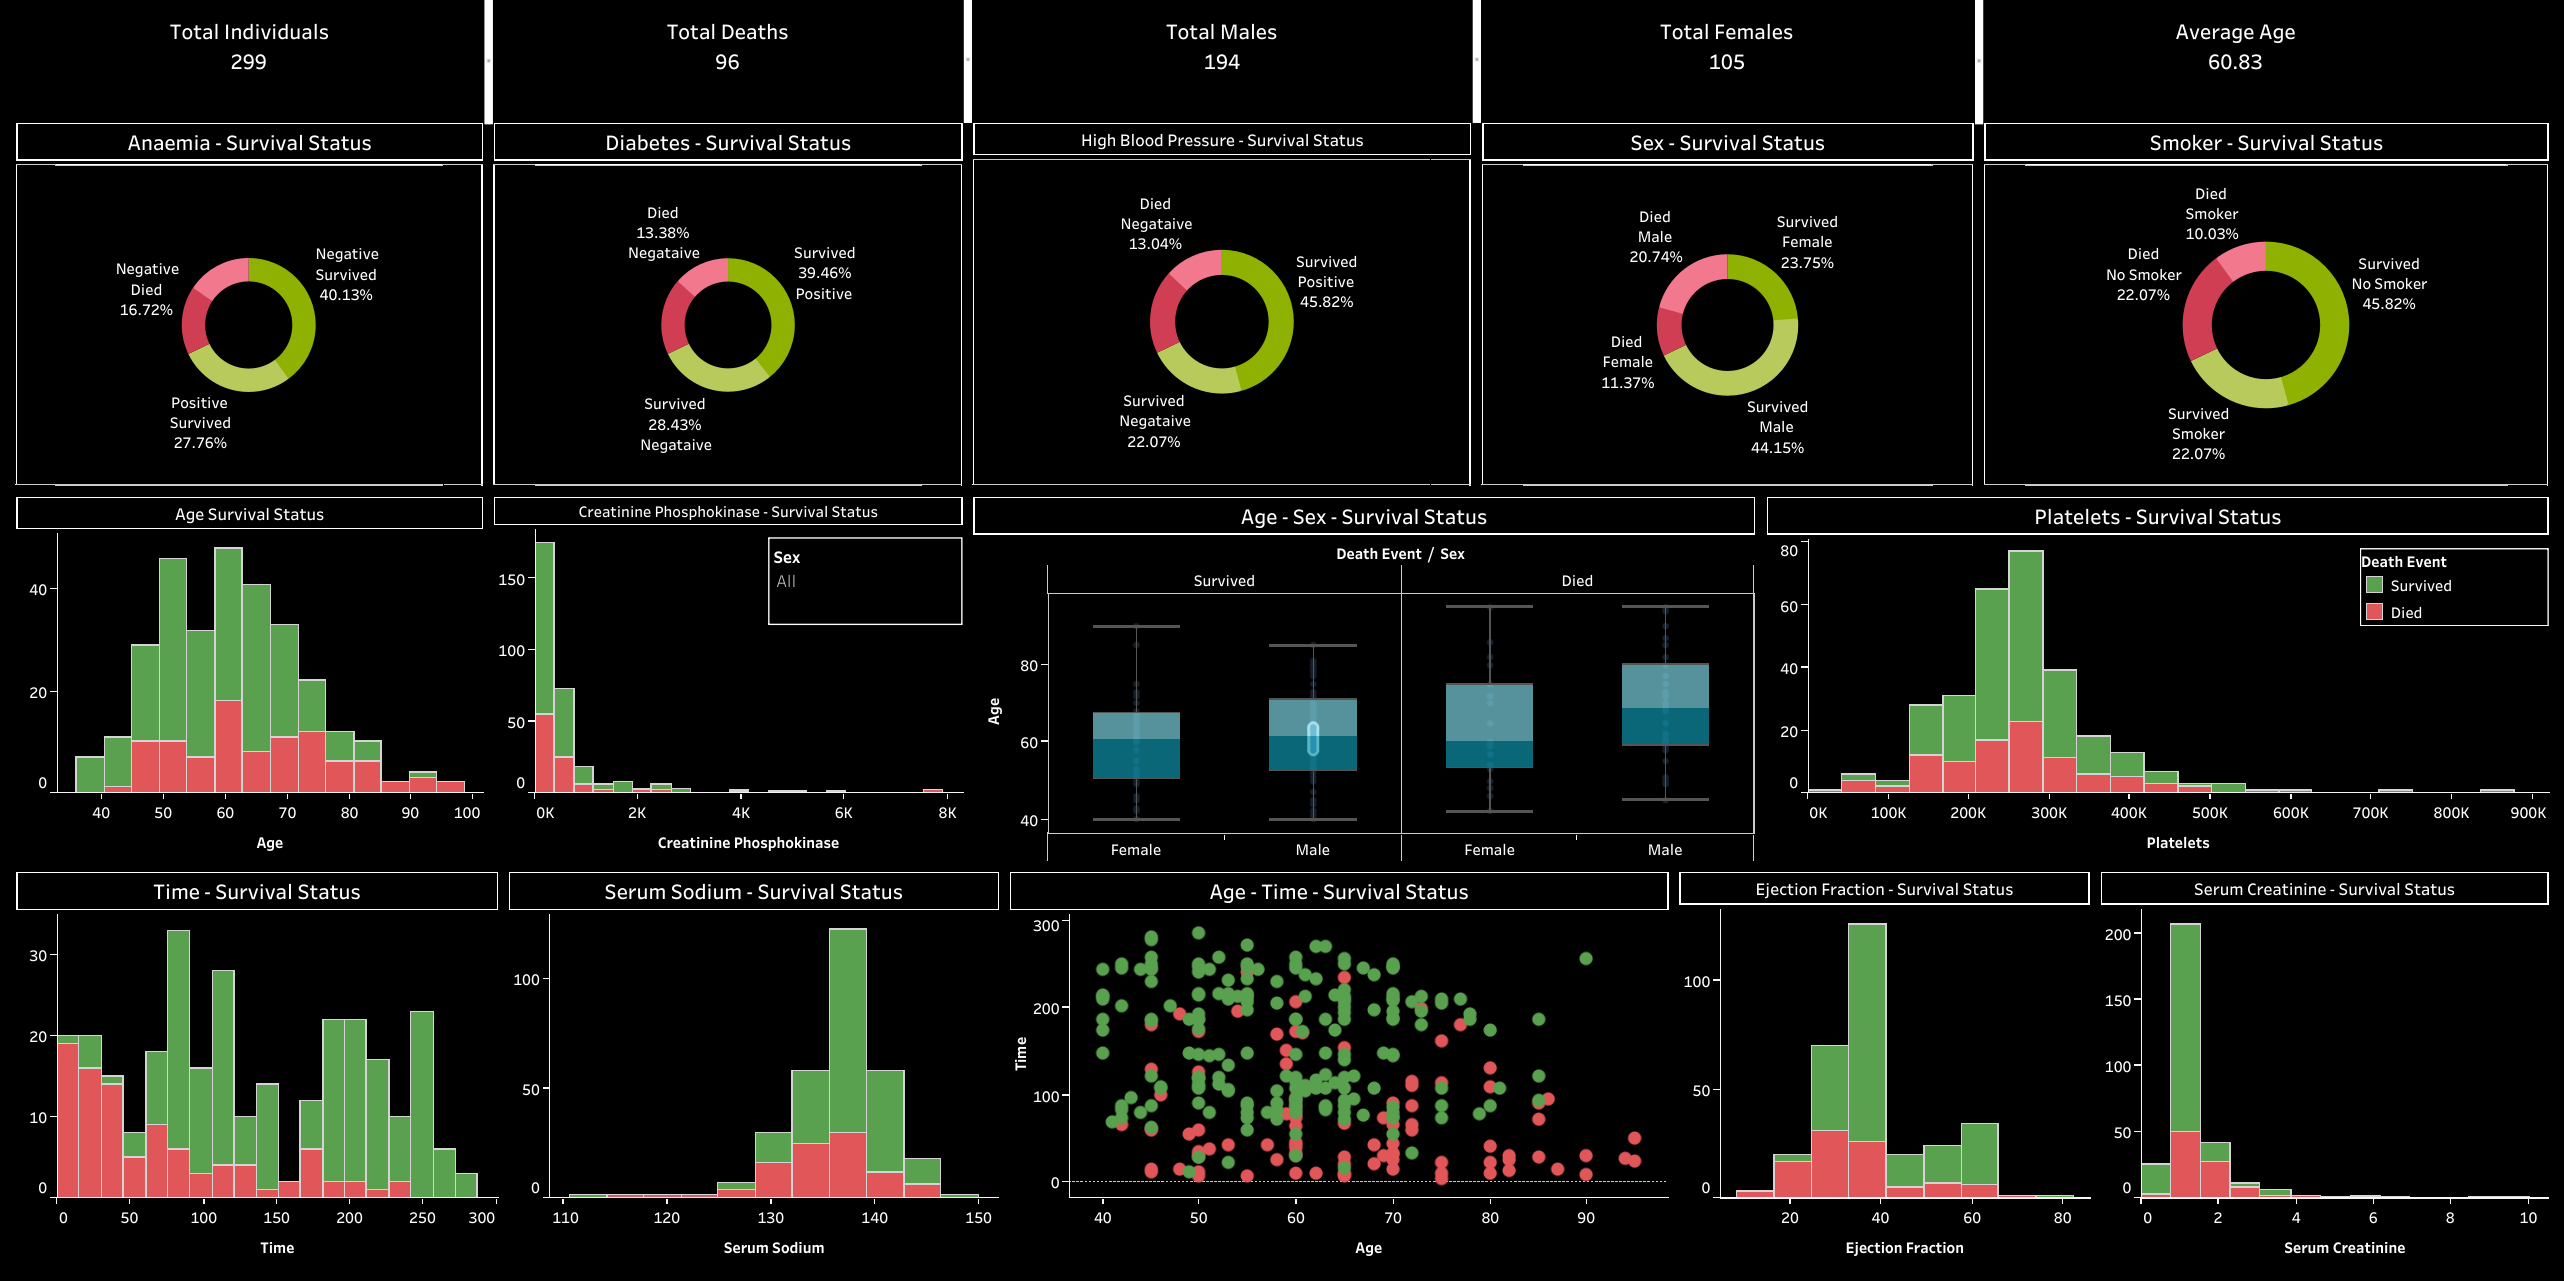

Layout of this report page (visuals, bound fields, positions):
{"tool":"tableau","page":{"name":"Heart Failure dashboard","canvas":[1000,1000],"units":"permille","ordinal":0},"visuals":[{"type":"worksheet","title":"Total Individuals","mark":"Automatic","box":[4.2,8.4,186.3,82.8]},{"type":"worksheet","title":"Total Deaths","mark":"Automatic","box":[190.5,8.4,186.8,82.8]},{"type":"worksheet","title":"Total Males","mark":"Automatic","box":[377.3,8.4,198.4,82.8]},{"type":"worksheet","title":"Total Females","mark":"Automatic","box":[575.8,8.4,195.8,82.8]},{"type":"worksheet","title":"Average Age","mark":"Automatic","box":[771.6,8.4,224.2,82.8]},{"type":"blank","box":[26.3,52.6,21.1,69.5]},{"type":"worksheet","title":"anaemia","mark":"Pie","rows":["Calculation_1214283075561394177","Calculation_1214283075561394177"],"box":[4.2,91.2,186.3,292.2]},{"type":"worksheet","title":"diabetes","mark":"Pie","rows":["Calculation_1214283075561394177","Calculation_1214283075561394177"],"box":[190.5,91.2,186.9,292.2]},{"type":"worksheet","title":"high blood pressure","mark":"Pie","rows":["Calculation_1214283075561394177","Calculation_1214283075561394177"],"box":[377.5,91.2,198.4,292.2]},{"type":"worksheet","title":"sex","mark":"Pie","rows":["Calculation_1214283075561394177","Calculation_1214283075561394177"],"box":[575.9,91.2,195.6,292.2]},{"type":"worksheet","title":"smoker","mark":"Pie","rows":["Calculation_1214283075561394177","Calculation_1214283075561394177"],"box":[771.5,91.2,224.3,292.2]},{"type":"worksheet","title":"age","mark":"Automatic","rows":["age"],"cols":["Age (bin)"],"box":[4.2,383.5,186.3,292.3]},{"type":"worksheet","title":"creatinine phosphokinase","mark":"Automatic","rows":["creatinine_phosphokinase"],"cols":["Creatinine Phosphokinase (bin)"],"box":[190.5,383.5,186.8,292.3]},{"type":"worksheet","title":"age-sex","mark":"Circle","rows":["age"],"cols":["DEATH_EVENT","sex"],"box":[377.4,383.5,309.2,292.3]},{"type":"worksheet","title":"platelets","mark":"Automatic","rows":["platelets"],"cols":["Platelets (bin)"],"box":[686.6,383.5,309.2,292.3]},{"type":"filter","title":"age-sex","param":"[federated.1ympp141984tiv18zq2gd1dwqg41].[none:sex:ok]","box":[299.5,418.9,75.8,68.4]},{"type":"legend","title":"platelets","param":"[federated.1ympp141984tiv18zq2gd1dwqg41].[none:DEATH_EVENT:ok]","box":[920,427.4,73.7,80]},{"type":"worksheet","title":"time","mark":"Automatic","rows":["time"],"cols":["Time (bin)"],"box":[4.2,675.7,192.1,315.8]},{"type":"worksheet","title":"serum sodium","mark":"Automatic","rows":["serum_sodium"],"cols":["Serum Sodium (bin)"],"box":[196.3,675.7,195.3,315.8]},{"type":"worksheet","title":"age-time","mark":"Automatic","rows":["time"],"cols":["age"],"box":[391.6,675.7,261.1,315.8]},{"type":"worksheet","title":"ejection fraction","mark":"Automatic","rows":["ejection_fraction"],"cols":["Ejection Fraction (bin)"],"box":[652.6,675.7,164.2,315.8]},{"type":"worksheet","title":"serum creatinine","mark":"Automatic","rows":["serum_creatinine"],"cols":["Serum Creatinine (bin)"],"box":[816.8,675.7,179,315.8]}]}

Visuals, with their boxes on the dashboard's canvas, which has no fixed pixel size, in thousandths of its width and height (x1, y1, x2, y2). These are canvas units, not pixel positions in the 2564x1281 screenshot, which may show the page scaled, cropped or inside an application window:
"Total Individuals" worksheet: (4, 8, 190, 91)
"Total Deaths" worksheet: (190, 8, 377, 91)
"Total Males" worksheet: (377, 8, 576, 91)
"Total Females" worksheet: (576, 8, 772, 91)
"Average Age" worksheet: (772, 8, 996, 91)
blank: (26, 53, 47, 122)
"anaemia" worksheet (Pie marks): (4, 91, 190, 383)
"diabetes" worksheet (Pie marks): (190, 91, 377, 383)
"high blood pressure" worksheet (Pie marks): (378, 91, 576, 383)
"sex" worksheet (Pie marks): (576, 91, 772, 383)
"smoker" worksheet (Pie marks): (772, 91, 996, 383)
"age" worksheet: (4, 384, 190, 676)
"creatinine phosphokinase" worksheet: (190, 384, 377, 676)
"age-sex" worksheet (Circle marks): (377, 384, 687, 676)
"platelets" worksheet: (687, 384, 996, 676)
"age-sex" filter: (300, 419, 375, 487)
"platelets" legend: (920, 427, 994, 507)
"time" worksheet: (4, 676, 196, 992)
"serum sodium" worksheet: (196, 676, 392, 992)
"age-time" worksheet: (392, 676, 653, 992)
"ejection fraction" worksheet: (653, 676, 817, 992)
"serum creatinine" worksheet: (817, 676, 996, 992)
